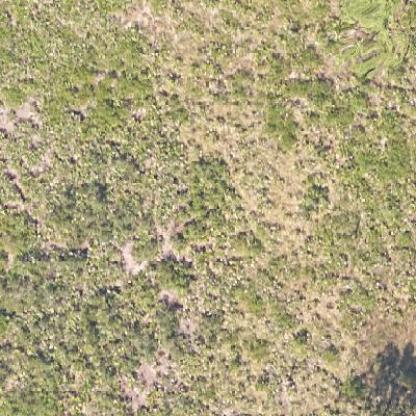tree-top: (351, 360, 415, 414)
